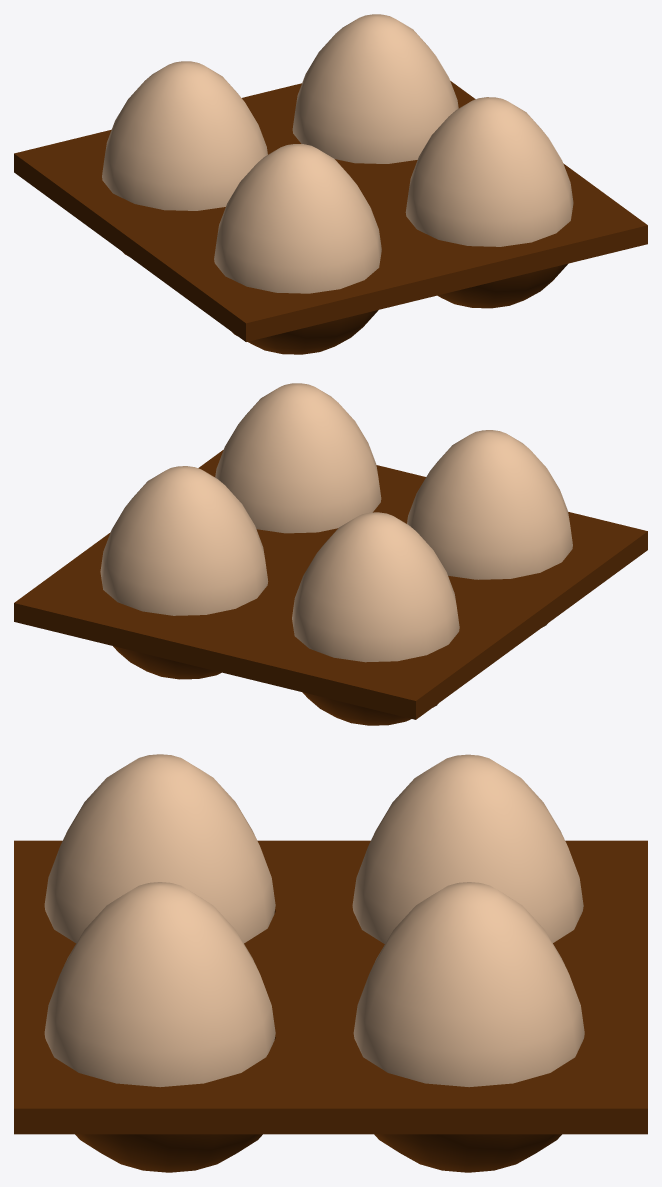
File: EGGS TRAY health.fbx
3 renders of one model, top to bottom at view 1: azimuth 30°, elevation 25°; view 2: azimuth 150°, elevation 25°; view 3: azimuth 270°, elevation 25°, orthographic. The views are drawn at different scales.
Parts seen in each view (by area): view 1: Plane, Sphere.003, Sphere.001, Sphere, Sphere.002; view 2: Plane, Sphere.002, Sphere, Sphere.001, Sphere.003; view 3: Plane, Sphere.003, Sphere.002, Sphere.001, Sphere.
Part boxes in pixels (bbox=[...]): Plane: bbox=[14, 81, 647, 354]; Sphere.003: bbox=[405, 97, 573, 246]; Sphere.001: bbox=[214, 144, 381, 293]; Sphere: bbox=[102, 61, 267, 210]; Sphere.002: bbox=[292, 14, 458, 163]; Plane: bbox=[14, 450, 647, 725]; Sphere.002: bbox=[100, 466, 268, 615]; Sphere: bbox=[292, 512, 459, 662]; Sphere.001: bbox=[407, 430, 572, 579]; Sphere.003: bbox=[215, 383, 381, 533]; Plane: bbox=[14, 840, 647, 1172]; Sphere.003: bbox=[44, 882, 275, 1087]; Sphere.002: bbox=[353, 882, 584, 1087]; Sphere.001: bbox=[44, 754, 275, 943]; Sphere: bbox=[352, 754, 583, 943].
Bounding box in the file's own units: 847 × 405 × 847.
